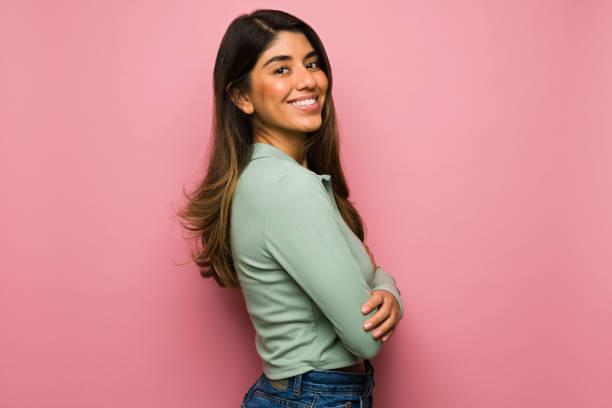no_goggle: (246, 48, 339, 82)
no_helmet: (205, 2, 327, 61)
no_vest: (202, 134, 414, 407)
